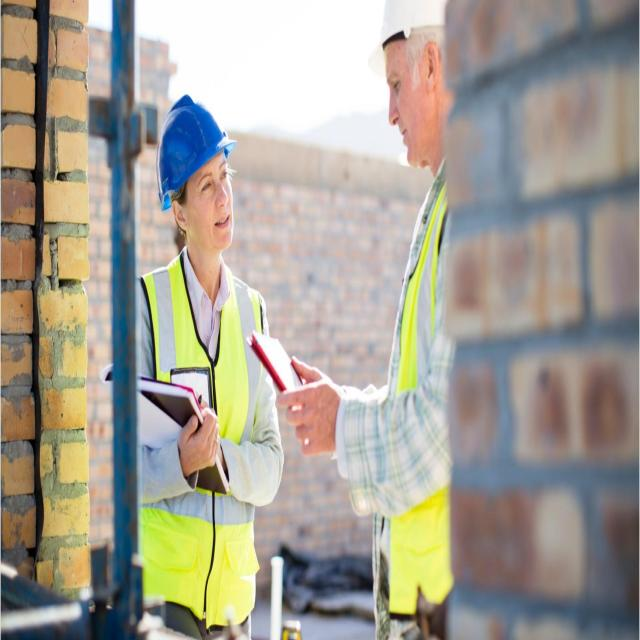Reflective-Jacket: (133, 260, 267, 632), (381, 139, 457, 621)
Safety-Helmet: (153, 90, 239, 206), (372, 1, 450, 56)
